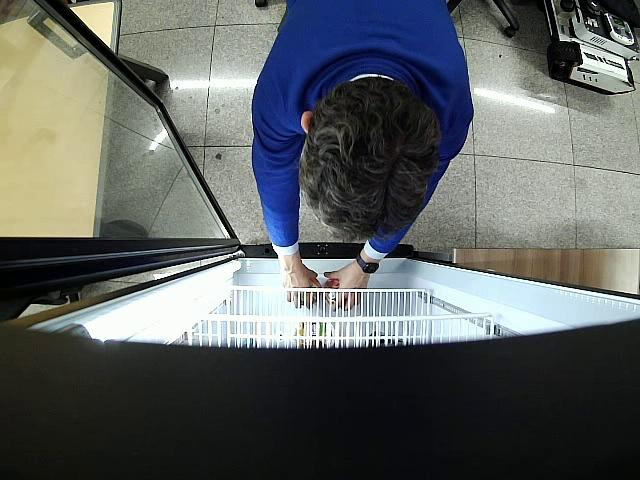00_hand: (325, 263, 368, 311), (279, 262, 318, 309)
06_nuguri_S: (325, 278, 339, 304)
